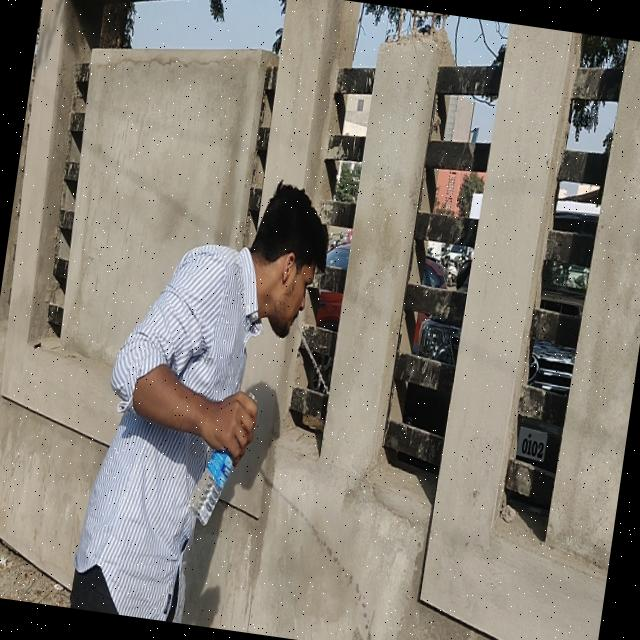spit: (262, 195, 400, 597)
